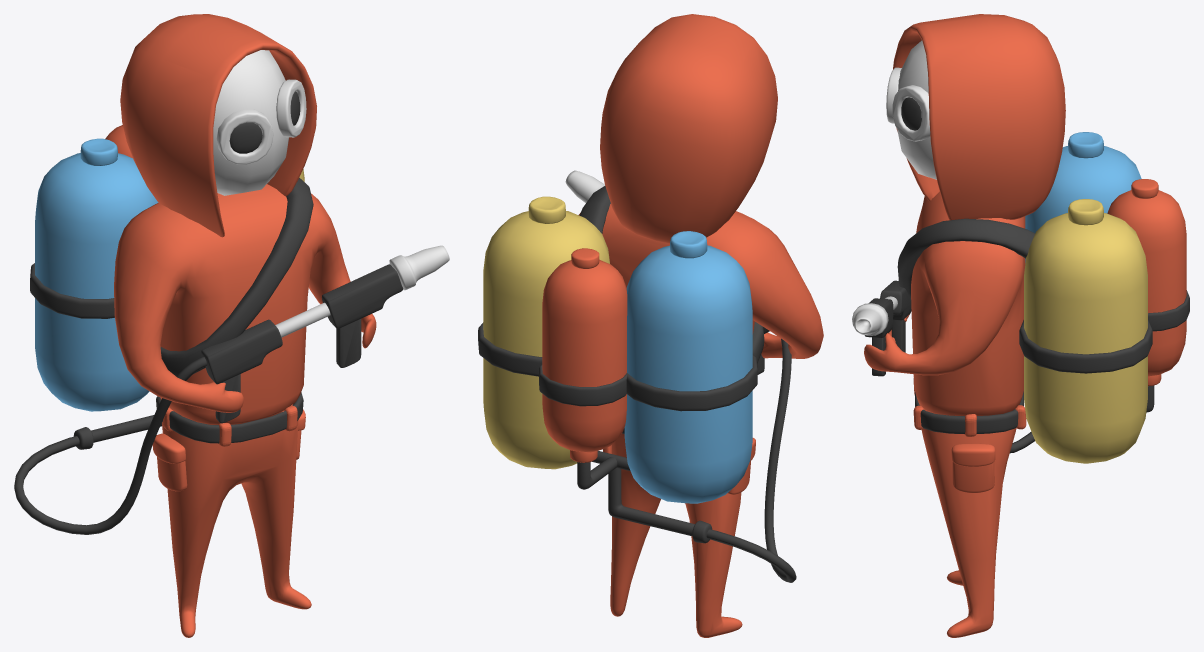
Rendered from char1.fbx.
The picture shows the model from 3 angles, left to right: view 1: azimuth 30°, elevation 25°; view 2: azimuth 150°, elevation 25°; view 3: azimuth 270°, elevation 25°; orthographic projection. The views are drawn at different scales.
Visible parts, largest first — view 1: Cube.010, Cube.003; view 2: Cube.003, Cube.010; view 3: Cube.010, Cube.003.
Boxes of the visible parts, x1,y1,x2,y2 form: Cube.010: (114,14,376,637); Cube.003: (14,125,449,534); Cube.003: (478,170,796,582); Cube.010: (578,14,823,637); Cube.010: (864,14,1065,637); Cube.003: (852,132,1189,463).
Bounding box in the file's own units: 106 × 184 × 97.52.
